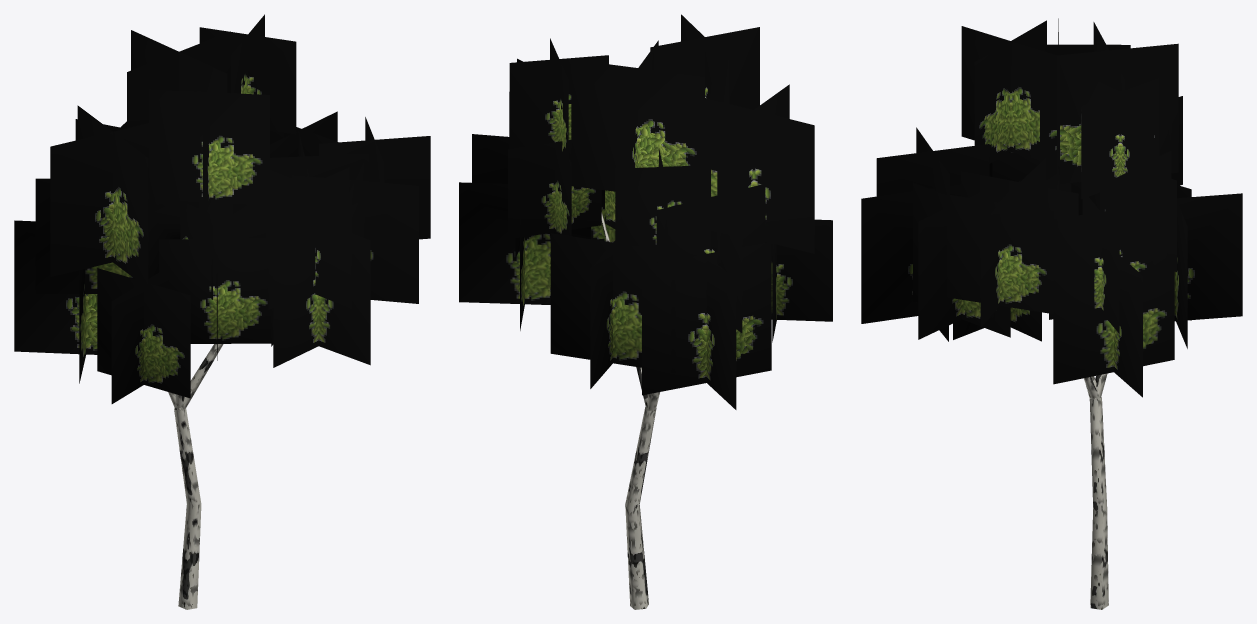
The model's file is birch0_lod1.fbx.
3 views of the same model, side by side, from view 1: azimuth 30°, elevation 25°; view 2: azimuth 150°, elevation 25°; view 3: azimuth 270°, elevation 25° (orthographic).
Parts seen in each view (by area): view 1: birch0_lod1; view 2: birch0_lod1; view 3: birch0_lod1.
Boxes of the visible parts, bbox=[...] form: birch0_lod1: bbox=[14, 14, 430, 609]; birch0_lod1: bbox=[459, 14, 832, 609]; birch0_lod1: bbox=[861, 18, 1242, 609].
Bounding box in the file's own units: 8.66 × 13.37 × 8.35.
Materials: 2 (2 with a texture image).
